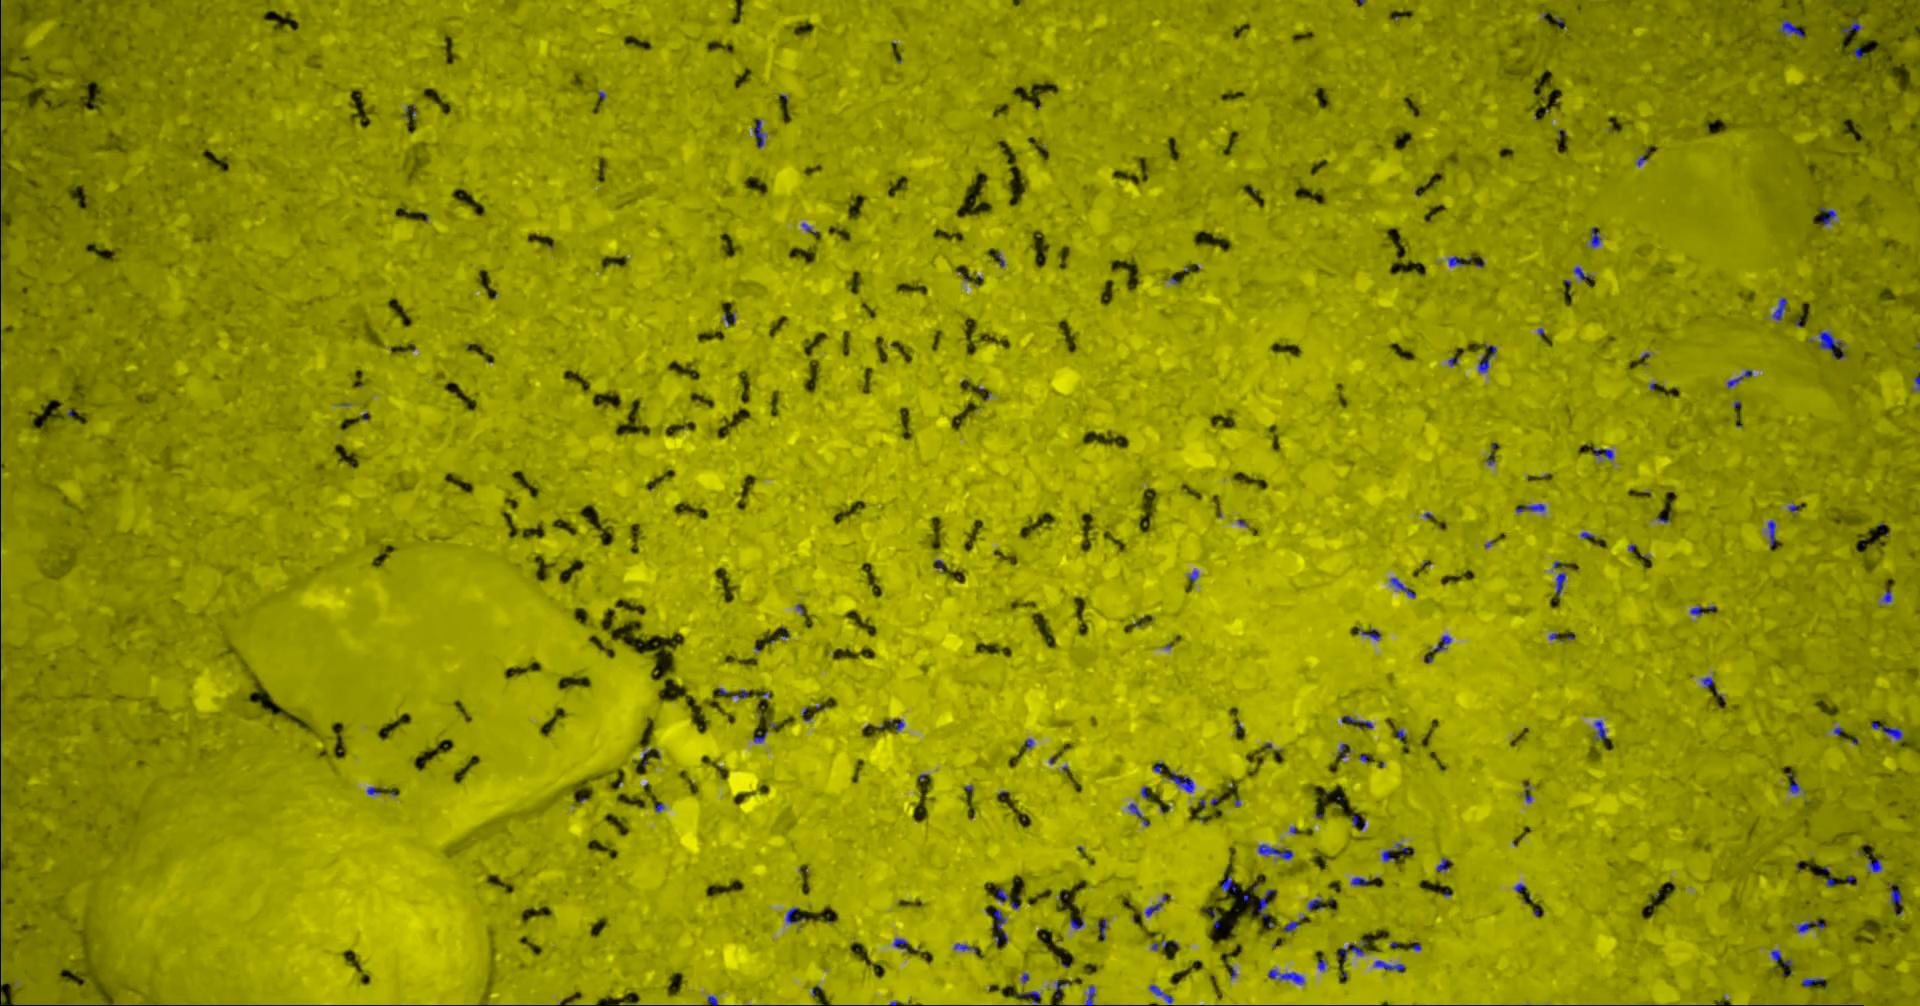ant: (1818, 332, 1846, 359), (1870, 721, 1903, 741), (1267, 969, 1304, 984), (1167, 770, 1192, 791), (1777, 18, 1804, 37), (1477, 344, 1496, 372), (1257, 843, 1291, 859), (1389, 577, 1415, 597), (1148, 984, 1172, 1005), (1382, 842, 1407, 861), (1726, 370, 1752, 387), (1340, 715, 1373, 728), (1338, 944, 1364, 960), (1429, 635, 1451, 652), (1373, 960, 1404, 972), (1796, 920, 1823, 932), (1017, 989, 1040, 1005), (753, 119, 764, 147), (1771, 297, 1785, 320), (1818, 206, 1835, 225), (1594, 720, 1608, 741), (1256, 897, 1269, 918), (1515, 503, 1545, 512), (1357, 629, 1380, 640), (1840, 19, 1860, 32), (992, 908, 1004, 929), (1890, 883, 1901, 904), (1144, 902, 1161, 916), (785, 907, 799, 923), (1307, 899, 1328, 909), (1589, 227, 1600, 246), (952, 942, 977, 951), (1573, 265, 1589, 279), (1768, 520, 1775, 547), (1435, 857, 1450, 871), (1220, 876, 1236, 890), (1592, 448, 1613, 459), (1084, 984, 1095, 1005), (1556, 572, 1564, 594), (1868, 857, 1881, 873), (994, 887, 1007, 902), (1097, 917, 1106, 939), (1448, 255, 1465, 265), (1284, 920, 1299, 931), (1801, 978, 1823, 986), (1350, 876, 1368, 885), (891, 937, 907, 948)
